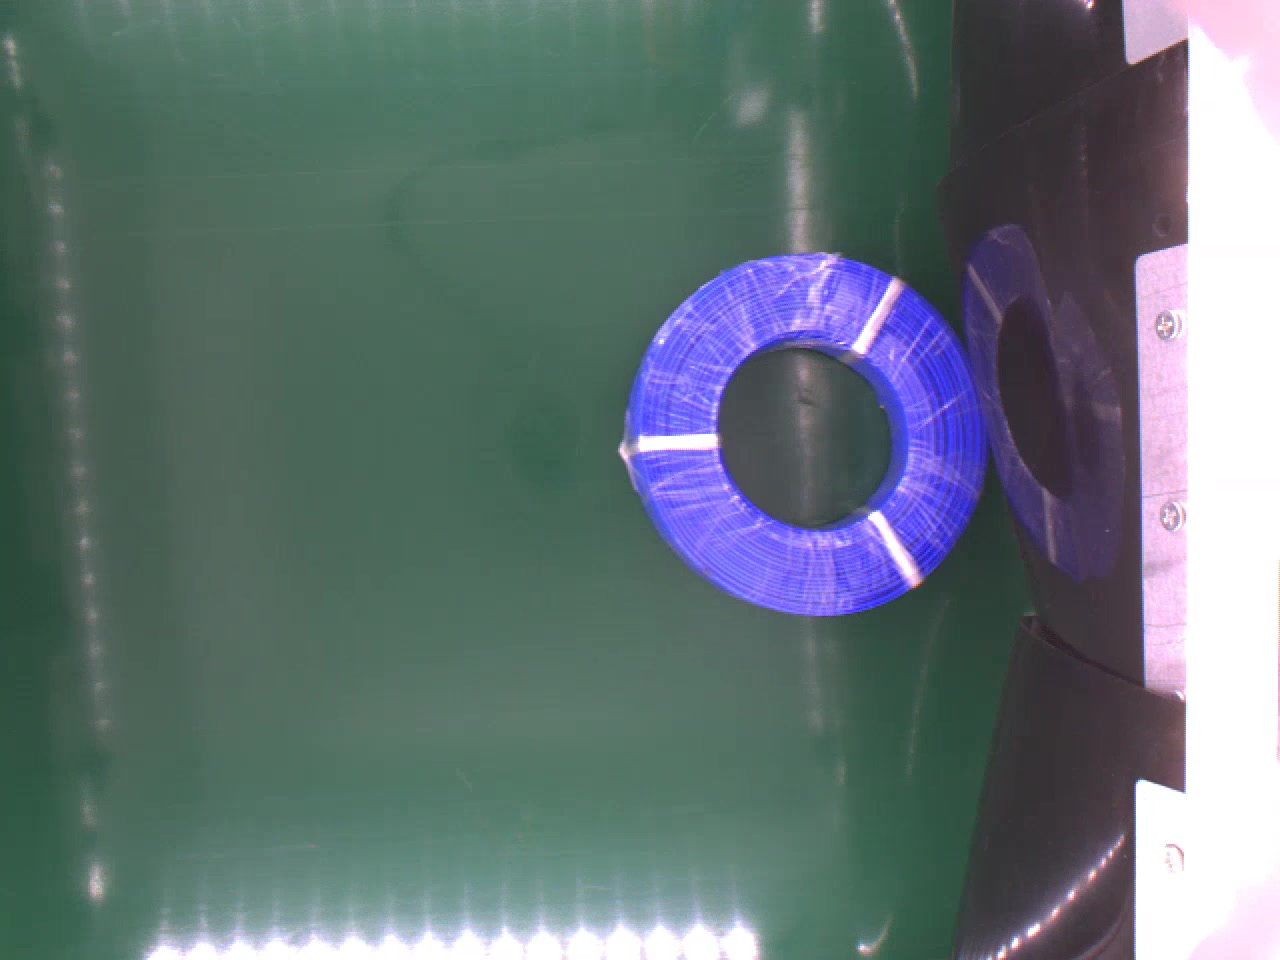blue: (619, 249, 987, 618)
